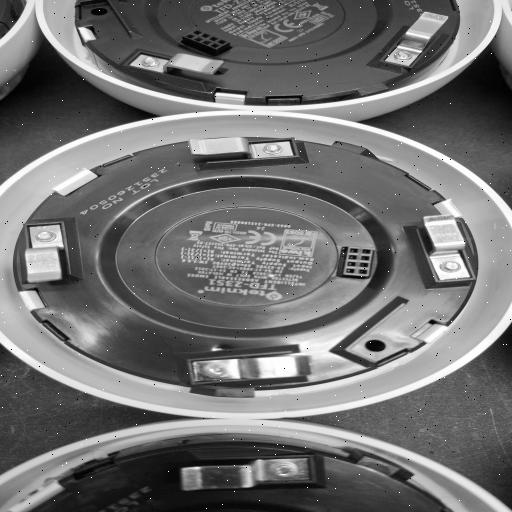konnektor: (327, 242, 381, 287), (184, 28, 233, 56)
yaysiz: (177, 344, 328, 391), (164, 450, 322, 494), (408, 209, 480, 294), (366, 6, 456, 71), (19, 218, 79, 294), (169, 134, 309, 166), (126, 49, 233, 84)
